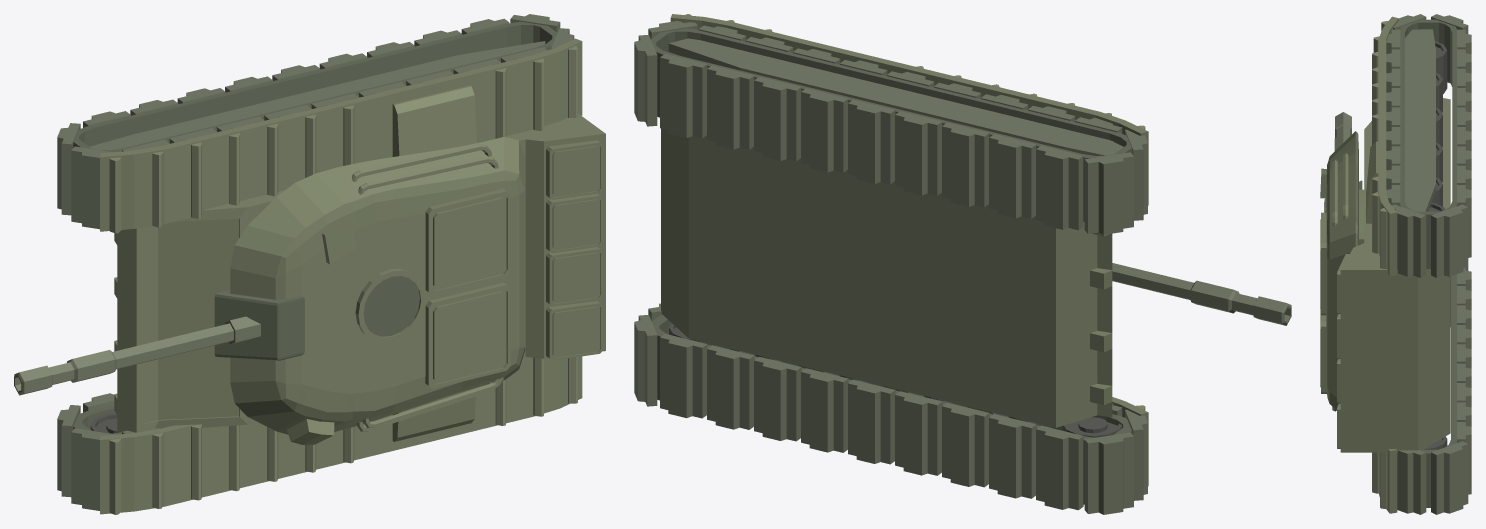
Rendered from tank.glb.
The picture shows the model from 3 angles, left to right: view 1: azimuth 30°, elevation 25°; view 2: azimuth 150°, elevation 25°; view 3: azimuth 270°, elevation 25°; orthographic projection. The views are drawn at different scales.
Parts seen in each view (by area): view 1: Tank_body_ae6e91, Tank_Turret_681b7a, Tank_body_d9674e, Tank_body_5428f3, TrackMesh.R, Tank_Turret, Tank_Gun, Tank_body_fdfc97, TrackMesh.L; view 2: Tank_body_ae6e91, TrackMesh.R, TrackMesh.L, Tank_body_fdfc97, Tank_body_5428f3, Tank_Gun, Tank_body_5b2a9f; view 3: Tank_body_ae6e91, TrackMesh.R, TrackMesh.L, Tank_Turret_681b7a, Tank_body_fdfc97, Tank_body_5428f3, Tank_body_d9674e, Tank_body_5b2a9f, Tank_Gun.
Part boxes in pixels (left/top/right/bottom): Tank_body_ae6e91: left=100, top=38, right=605, bottom=514; Tank_Turret_681b7a: left=230, top=136, right=525, bottom=444; Tank_body_d9674e: left=109, top=46, right=577, bottom=514; Tank_body_5428f3: left=73, top=22, right=557, bottom=434; TrackMesh.R: left=57, top=14, right=574, bottom=229; Tank_Turret: left=214, top=276, right=419, bottom=360; Tank_Gun: left=14, top=316, right=260, bottom=395; Tank_body_fdfc97: left=89, top=41, right=545, bottom=149; TrackMesh.L: left=57, top=393, right=160, bottom=510; Tank_body_ae6e91: left=661, top=14, right=1148, bottom=486; TrackMesh.R: left=634, top=21, right=1147, bottom=234; TrackMesh.L: left=634, top=303, right=1147, bottom=514; Tank_body_fdfc97: left=668, top=38, right=1123, bottom=155; Tank_body_5428f3: left=651, top=28, right=1131, bottom=504; Tank_Gun: left=1112, top=263, right=1291, bottom=325; Tank_body_5b2a9f: left=669, top=53, right=1122, bottom=437; Tank_body_ae6e91: left=1337, top=16, right=1450, bottom=513; TrackMesh.R: left=1386, top=14, right=1471, bottom=277; TrackMesh.L: left=1397, top=267, right=1471, bottom=514; Tank_Turret_681b7a: left=1320, top=131, right=1364, bottom=411; Tank_body_fdfc97: left=1405, top=29, right=1435, bottom=211; Tank_body_5428f3: left=1399, top=19, right=1457, bottom=507; Tank_body_d9674e: left=1372, top=21, right=1388, bottom=509; Tank_body_5b2a9f: left=1424, top=41, right=1447, bottom=449; Tank_Gun: left=1334, top=112, right=1351, bottom=150.
Size of the model in its own units: 9.8 by 5.59 by 2.56.
